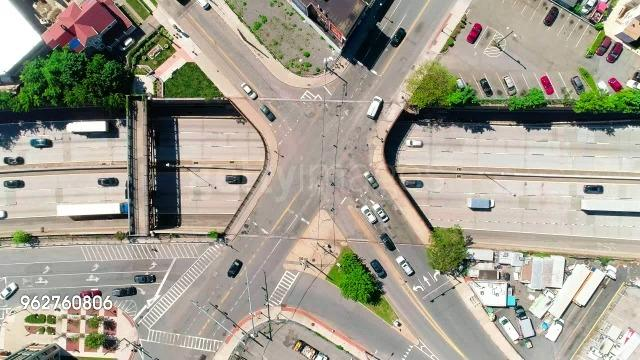car: (451, 74, 473, 98), (395, 255, 417, 277), (358, 171, 382, 191), (463, 196, 497, 210), (466, 22, 484, 48), (536, 74, 558, 94), (373, 203, 392, 225), (240, 81, 260, 101), (368, 259, 388, 279), (502, 74, 520, 96), (543, 5, 561, 27), (608, 72, 626, 94), (226, 258, 244, 280), (478, 76, 494, 100), (0, 283, 24, 299), (389, 26, 407, 47), (608, 40, 622, 66), (1, 156, 29, 168), (379, 233, 397, 251), (360, 206, 378, 224), (114, 286, 140, 298), (597, 34, 611, 56), (4, 178, 30, 189), (261, 105, 277, 122), (30, 138, 56, 148), (403, 178, 425, 189), (96, 177, 120, 187), (221, 174, 245, 184), (581, 185, 605, 195), (79, 289, 103, 299), (134, 274, 156, 284), (194, 1, 212, 12), (404, 139, 422, 149)
truck: (55, 202, 142, 216), (512, 304, 540, 336), (64, 121, 112, 136), (360, 94, 386, 120), (497, 317, 521, 341)
